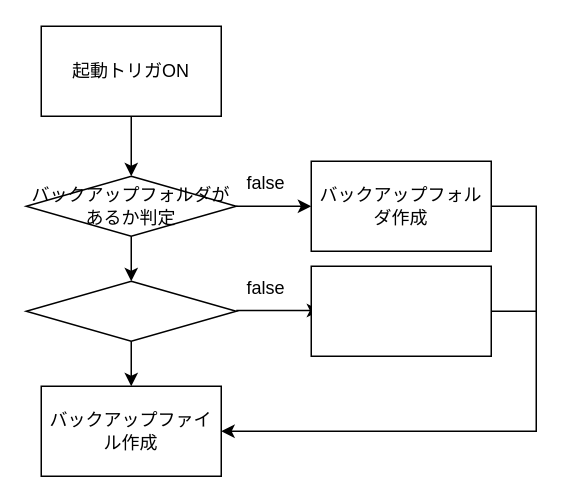
Some shapes in this 575 by 503 pixel diagram are drawn without their labels. The box of each missing label's shape, as (x1, y1, x2, y2) in pixels:
フォルダ内が10個以内か判定: (25, 280, 236, 341)
一番古いファイル削除: (310, 265, 491, 356)
